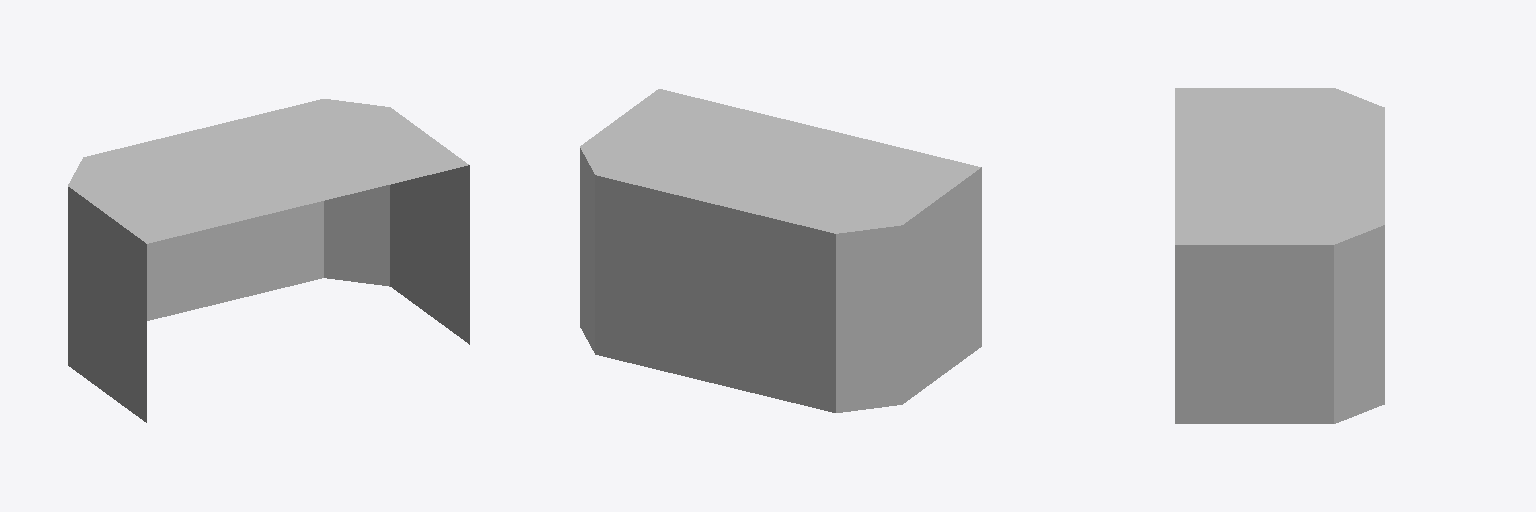
The model's file is net-inner-sided.obj.
The picture shows the model from 3 angles: view 1: azimuth 30°, elevation 25°; view 2: azimuth 150°, elevation 25°; view 3: azimuth 270°, elevation 25°; orthographic projection.
Visible parts, largest first — view 1: Cube; view 2: Cube; view 3: Cube.
Boxes of the visible parts, <box> form: Cube: <box>68,99,469,422</box>; Cube: <box>580,89,981,412</box>; Cube: <box>1175,88,1384,423</box>.
Size of the model in its own units: 2.21 by 1.18 by 1.24.